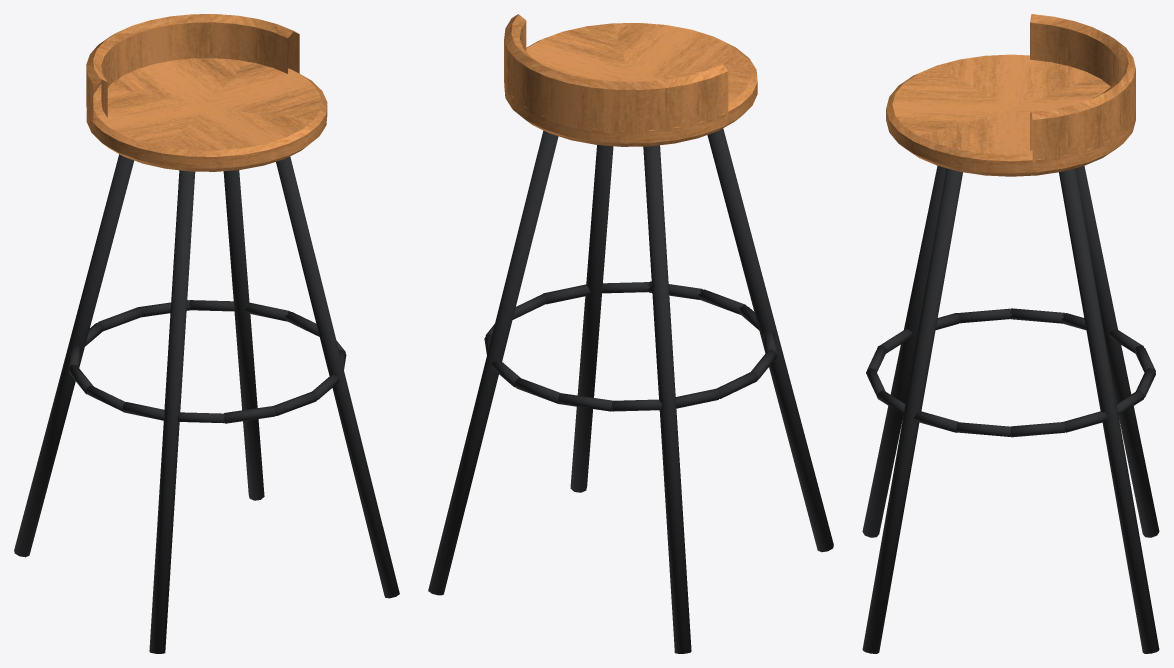
The model's file is seating.bar-stool-with-back.glb.
3 renders of one model, left to right at view 1: azimuth 30°, elevation 25°; view 2: azimuth 150°, elevation 25°; view 3: azimuth 270°, elevation 25°, orthographic. The views are drawn at different scales.
Parts seen in each view (by area): view 1: seating.bar-stool-with-back.001; view 2: seating.bar-stool-with-back.001; view 3: seating.bar-stool-with-back.001.
Part boxes in pixels (left/top/right/bottom): seating.bar-stool-with-back.001: left=14, top=14, right=399, bottom=653; seating.bar-stool-with-back.001: left=428, top=14, right=833, bottom=653; seating.bar-stool-with-back.001: left=862, top=14, right=1159, bottom=653.
Bounding box in the file's own units: 0.4197 × 0.8278 × 0.4197.
Materials: 2 (1 with a texture image).
